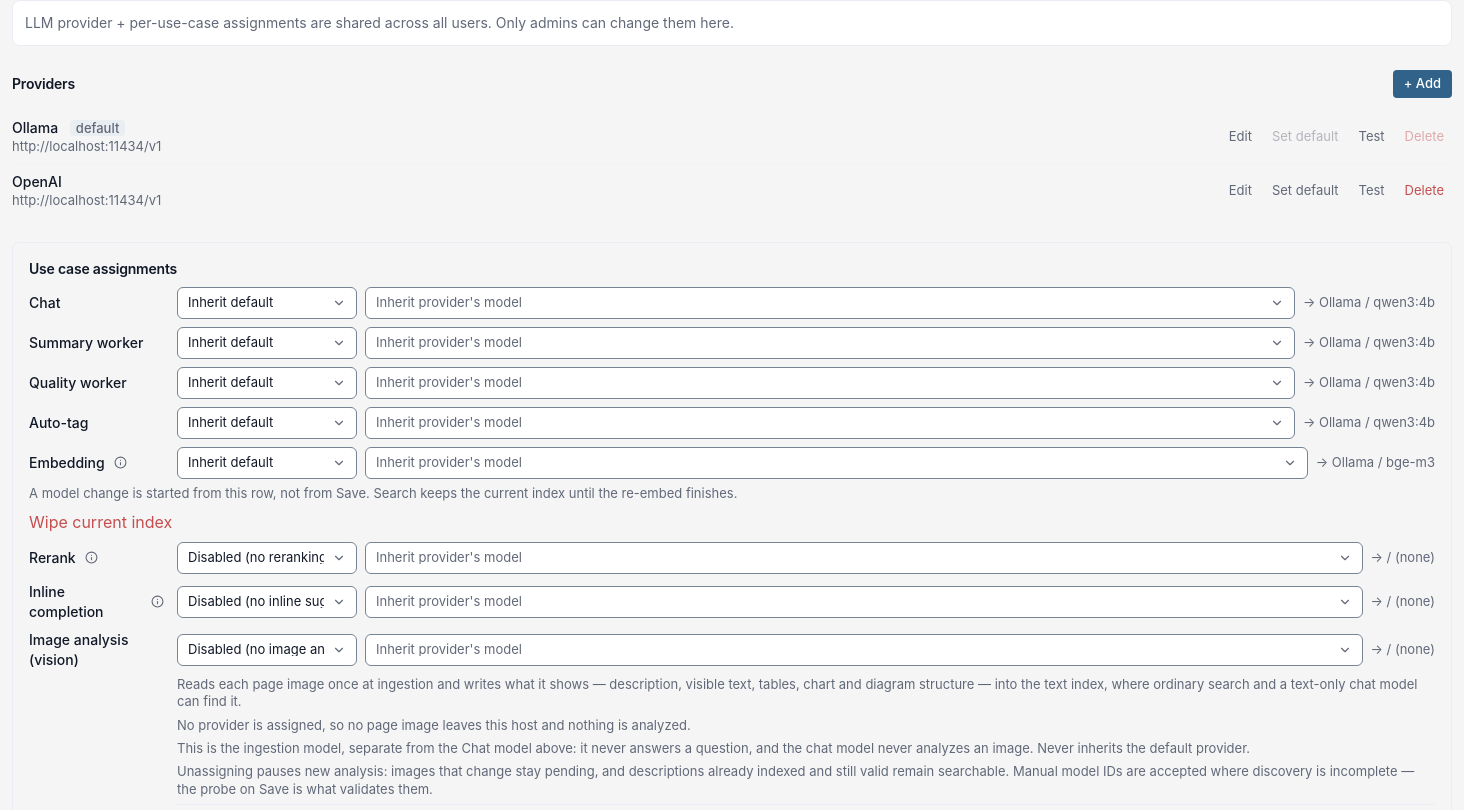
Test: LlmTab › changing the embedding assignment reveals Start re-embed and hides Wipe
This screenshot has width=1464, height=810.
Expected: the heading "Use case assignments" is shown, [29,260,177,277]
Expected: the button "start re-embed" is not shown
Select "OpenAI" in the dropdown with test id "usecase-embedding-provider" at {"x": 267, "y": 463}, box [177,447,357,479]
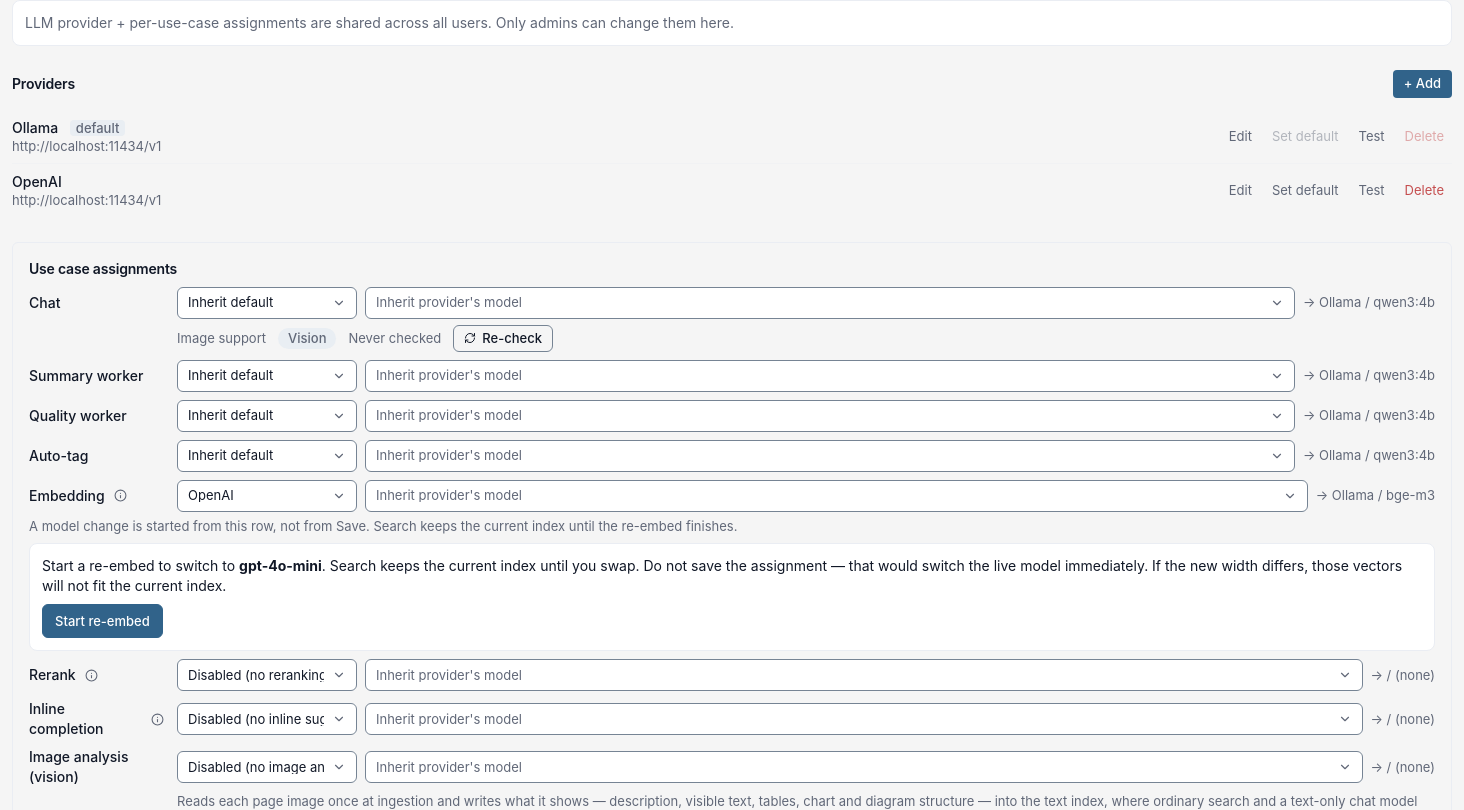
Expected: the button "Start re-embed" is shown, [42,604,163,638]
Expected: the button "Wipe current index" is gone
